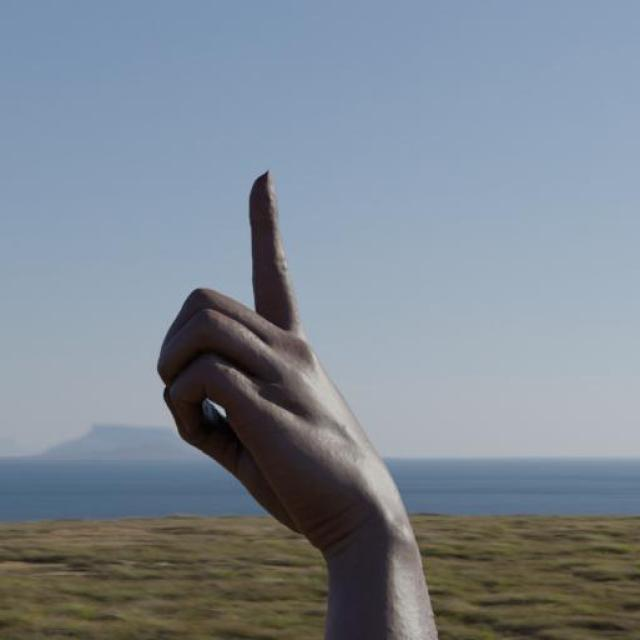D: (153, 167, 402, 545)
